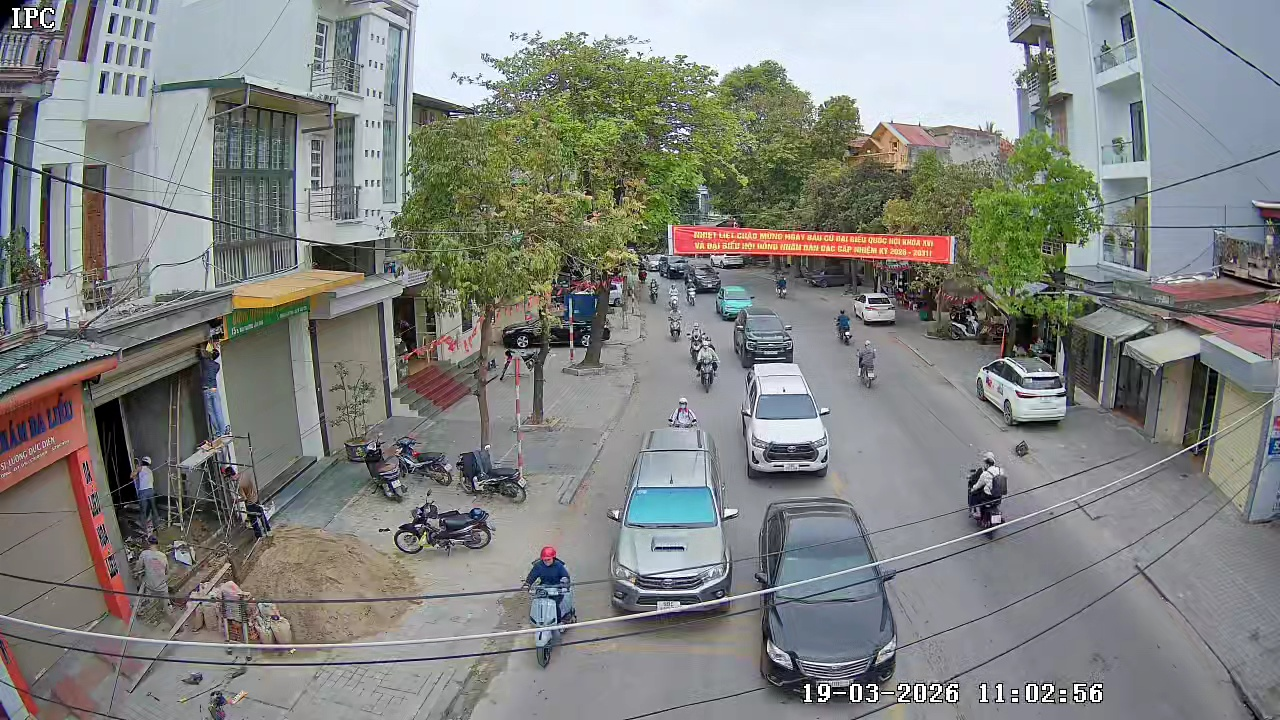car: (753, 495, 897, 702), (607, 483, 740, 615), (740, 366, 832, 479), (632, 425, 725, 509), (974, 353, 1069, 429), (734, 309, 797, 366), (715, 284, 757, 321), (856, 291, 898, 326)
motorbike: (393, 486, 496, 556), (523, 548, 577, 669), (457, 438, 530, 503), (963, 451, 1011, 540), (856, 339, 878, 390), (667, 395, 699, 429), (698, 342, 719, 393), (685, 321, 703, 363), (834, 308, 852, 346), (665, 305, 681, 341)
